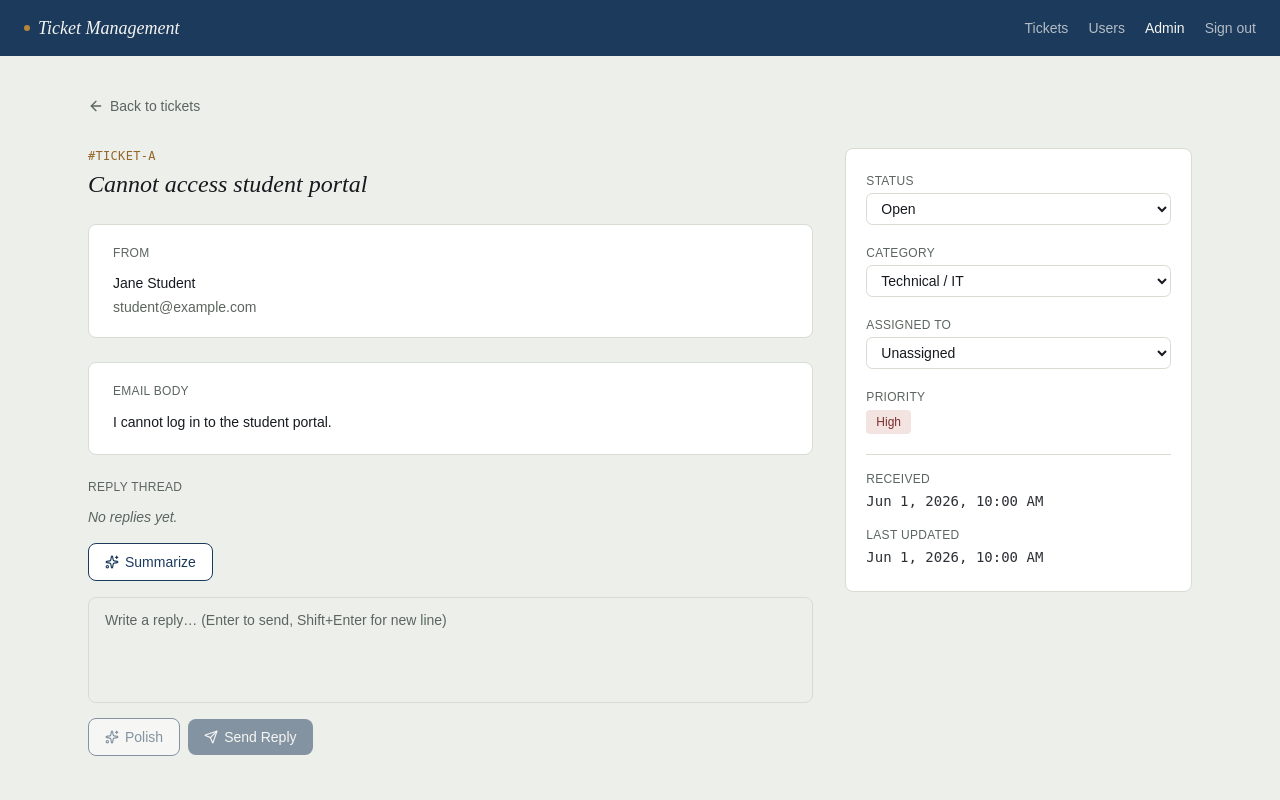
Test: TicketDetailPage › status dropdown › disables status and category selects while mutation is in flight
Expected: the heading "Cannot access student portal" is shown, [88,171,367,197]
Select "Resolved" in the dropdown named "Status" at coordinates (1019, 209), box [866,193,1171,225]
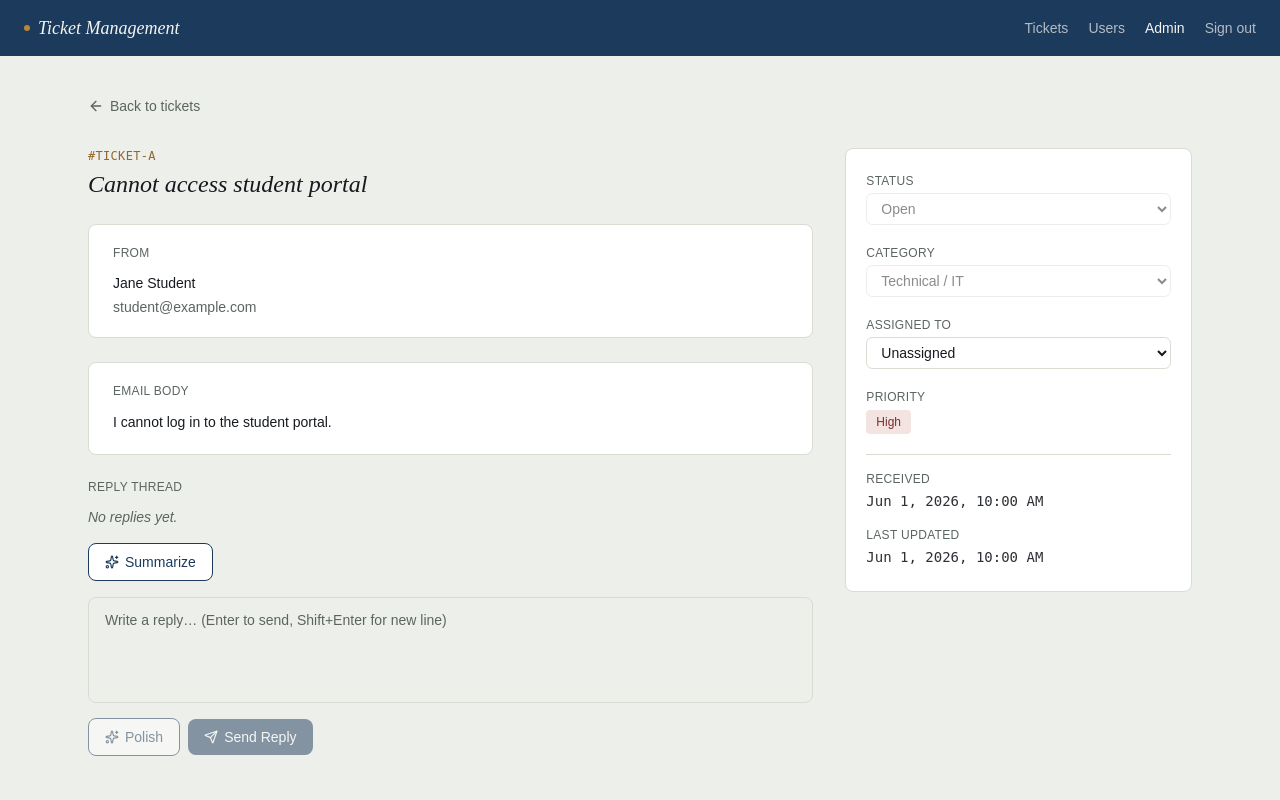
Expected: the dropdown named "Status" is disabled, [866,193,1171,225]
Expected: the dropdown named "Category" is disabled, [866,265,1171,297]
